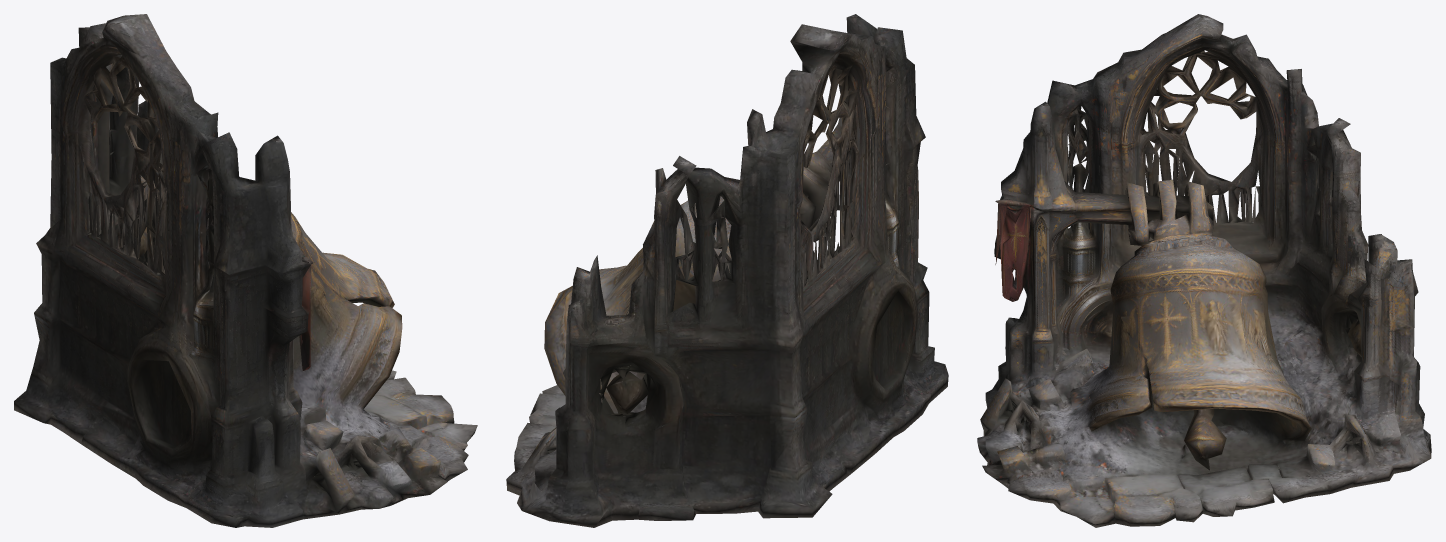
Rendered from env_ca_bell.glb.
3 views of the same model, side by side, from view 1: azimuth 30°, elevation 25°; view 2: azimuth 150°, elevation 25°; view 3: azimuth 270°, elevation 25° (orthographic). The views are drawn at different scales.
Parts seen in each view (by area): view 1: tripo_node_fbeaee23-cbdc-4d8e-ac88-485f7cd665c0; view 2: tripo_node_fbeaee23-cbdc-4d8e-ac88-485f7cd665c0; view 3: tripo_node_fbeaee23-cbdc-4d8e-ac88-485f7cd665c0.
Part boxes in pixels (x1,y1,x2,y2): tripo_node_fbeaee23-cbdc-4d8e-ac88-485f7cd665c0: [14, 14, 477, 527]; tripo_node_fbeaee23-cbdc-4d8e-ac88-485f7cd665c0: [506, 14, 948, 527]; tripo_node_fbeaee23-cbdc-4d8e-ac88-485f7cd665c0: [977, 14, 1431, 527].
Bounding box in the file's own units: 0.7605 × 0.9376 × 1.
1 material, 1 textured.
